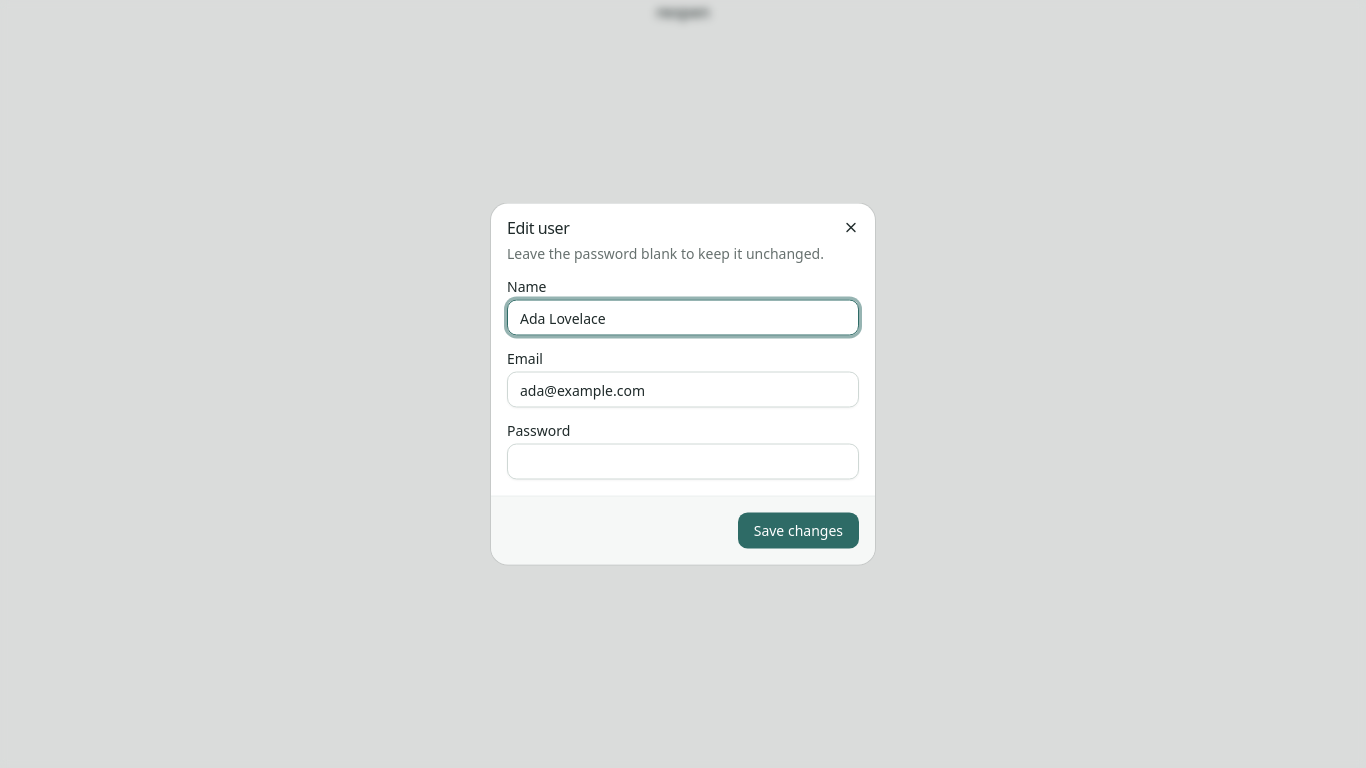
Test: UserDialog — edit mode › blocks submit when a provided password is too short
In the password field labelled "Password": [683, 462] box [507,444,859,480], type "short1"
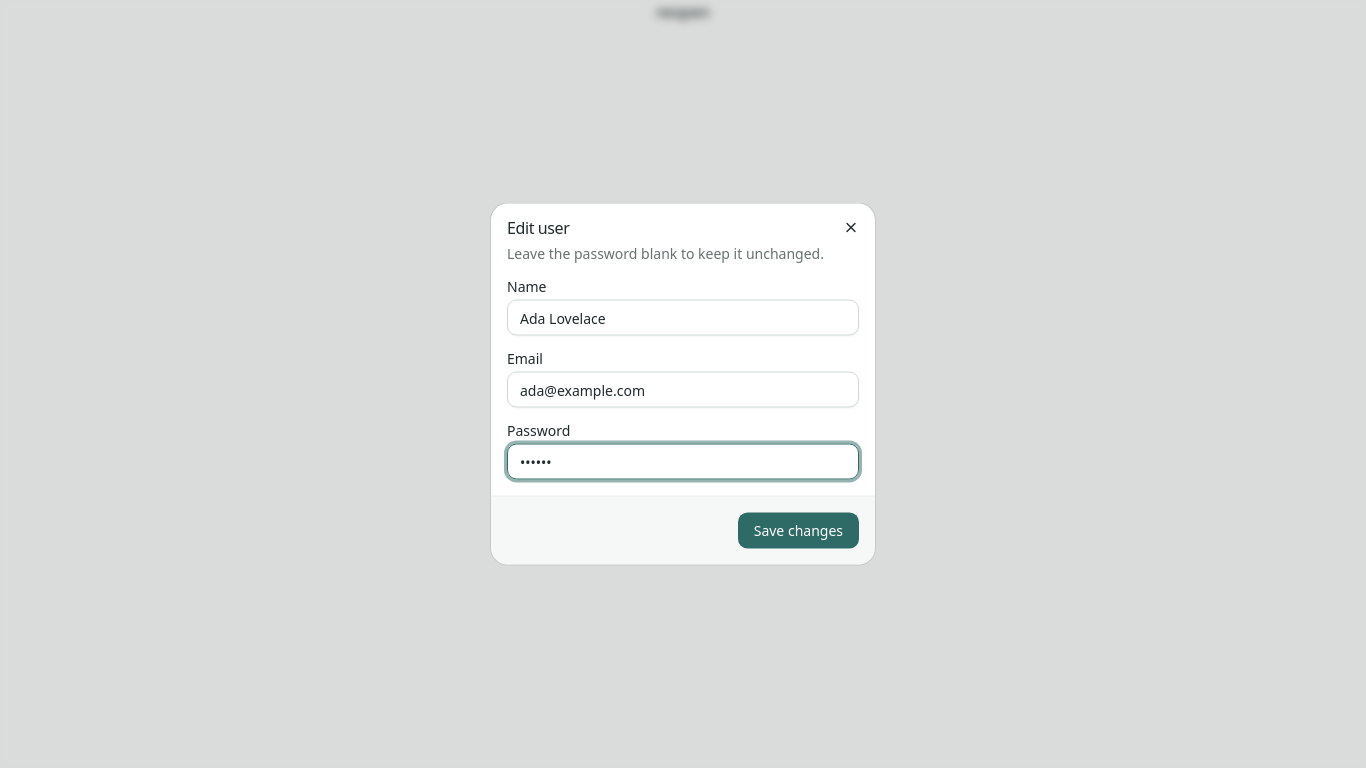
Click the button "Save changes": [798, 530] box [738,512,859,548]
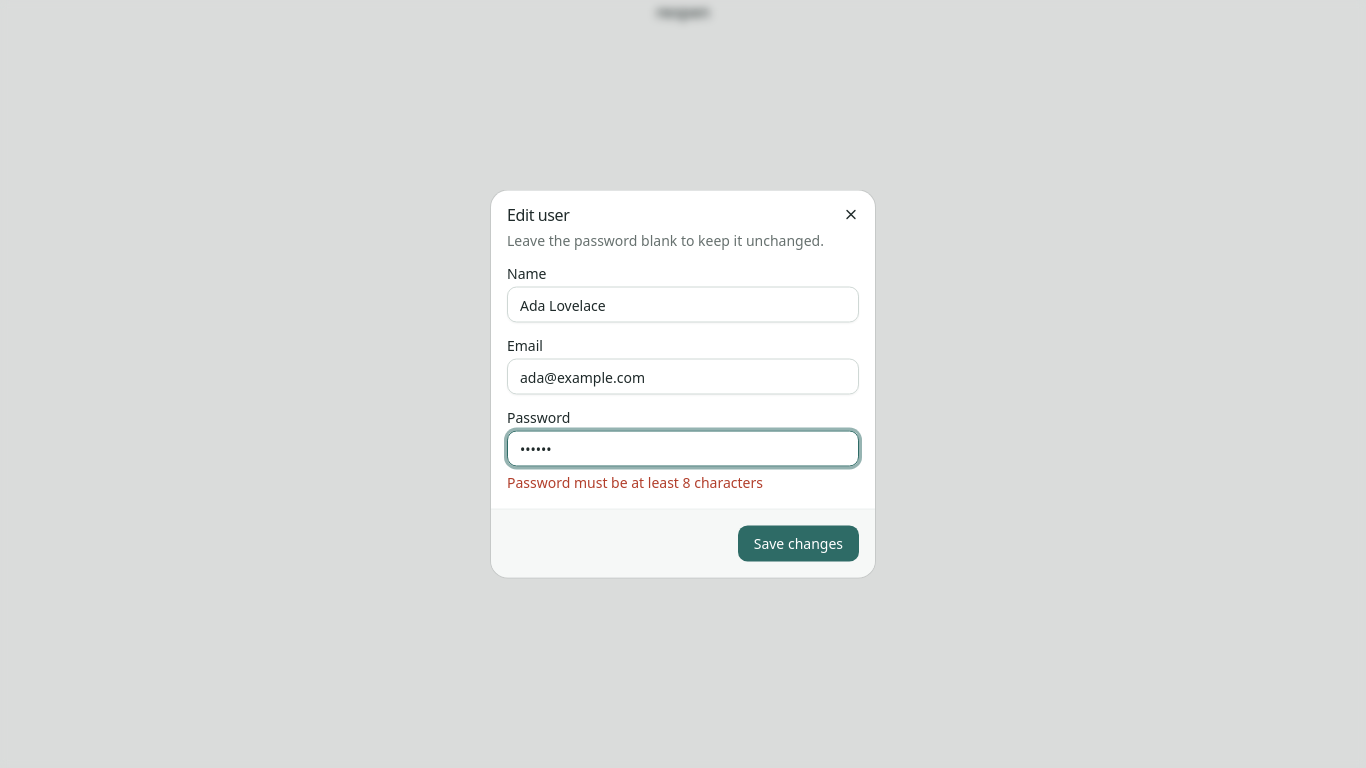
Expected: the text "Password must be at least 8 characters" is shown, [507,472,763,492]
